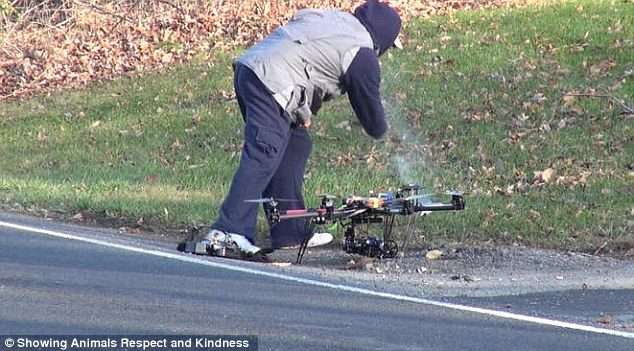drone: (242, 185, 482, 265)
person: (204, 1, 405, 257)
